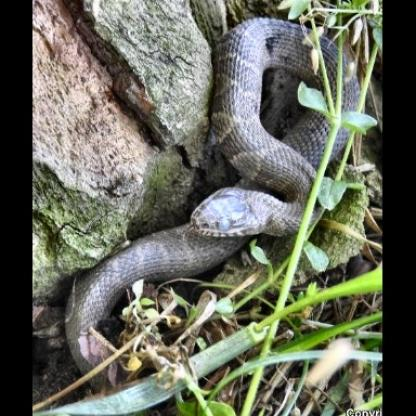Snake: (58, 6, 352, 413), (169, 0, 382, 291)
